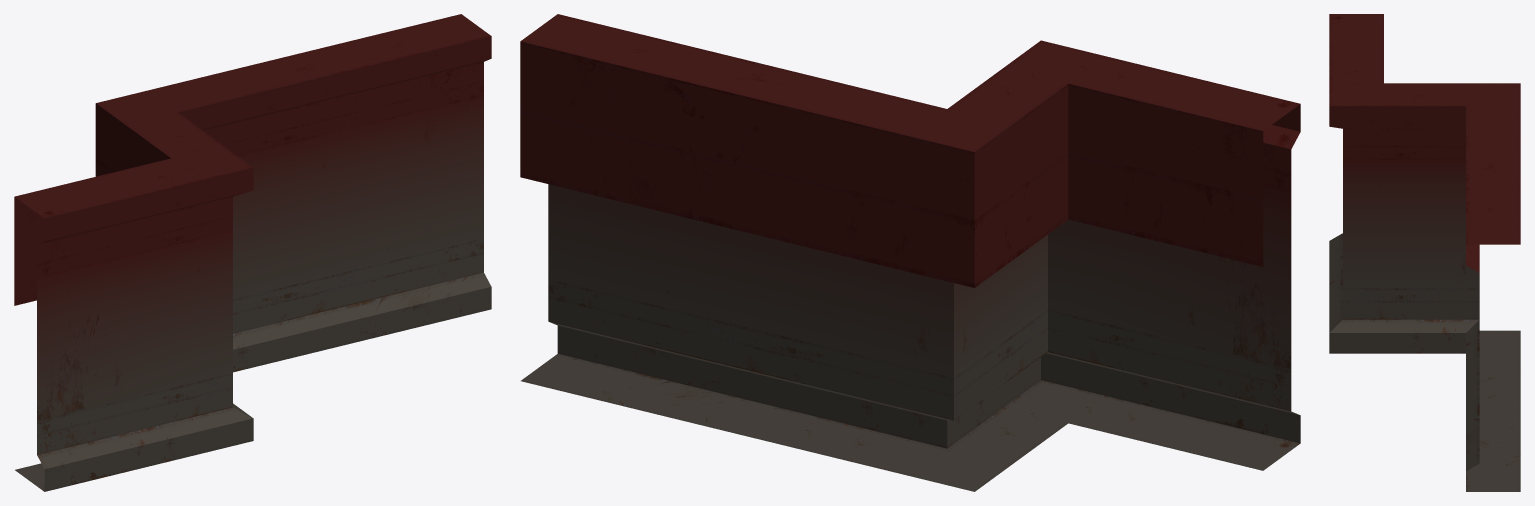
File: Cornice_Metal_90Angle_L.gltf
3 renders of one model, left to right at view 1: azimuth 30°, elevation 25°; view 2: azimuth 150°, elevation 25°; view 3: azimuth 270°, elevation 25°, orthographic. The views are drawn at different scales.
Parts seen in each view (by area): view 1: Cornice_Metal_90Angle_L; view 2: Cornice_Metal_90Angle_L; view 3: Cornice_Metal_90Angle_L.
Part boxes in pixels (x1,y1,x2,y2): Cornice_Metal_90Angle_L: (14, 14, 491, 491); Cornice_Metal_90Angle_L: (520, 14, 1300, 491); Cornice_Metal_90Angle_L: (1329, 14, 1520, 491).
Bounding box in the file's own units: 2 × 1 × 0.7.
Materials: 1 (1 with a texture image).
